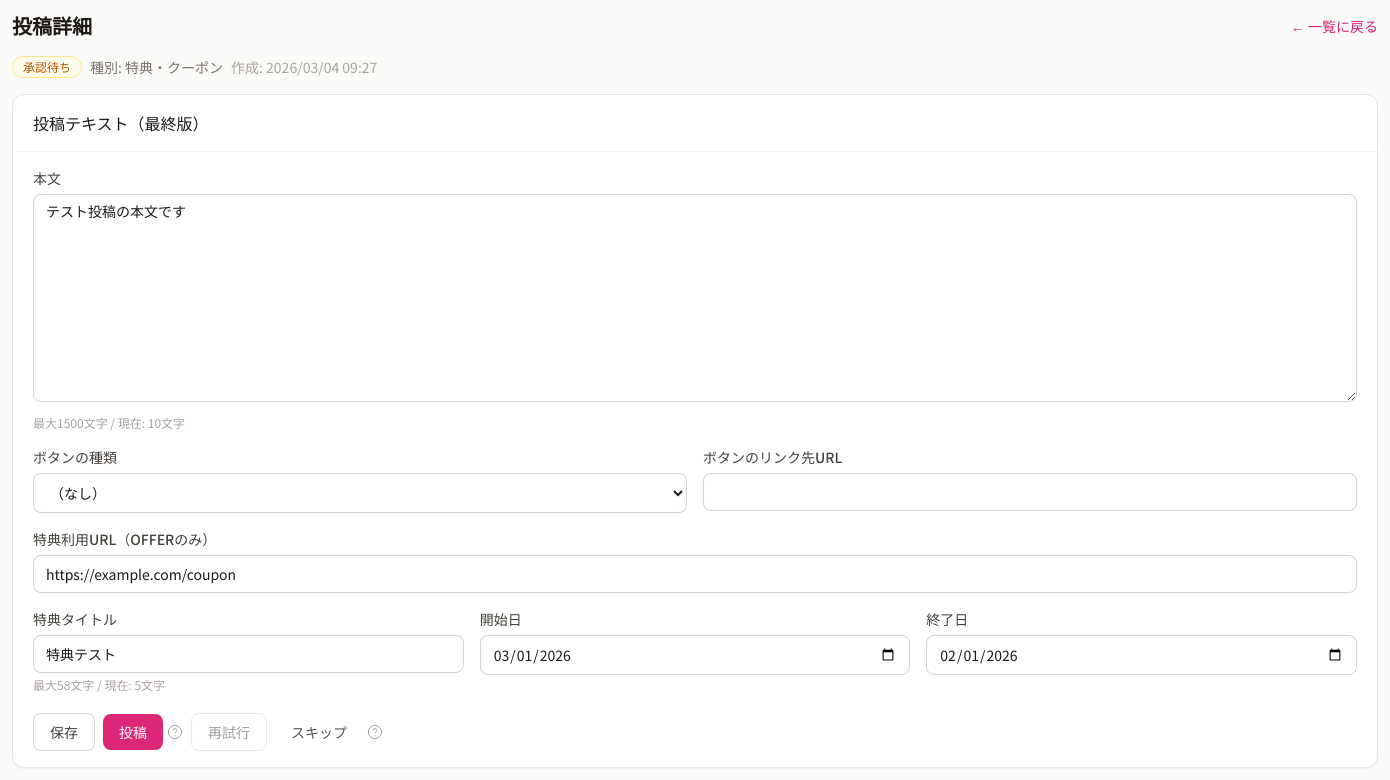
Test case: PostDetailPage › OFFER post type › shows validation error when end date is before start date
Click the button "保存". click: click(64, 732)
box: [33,713,95,751]
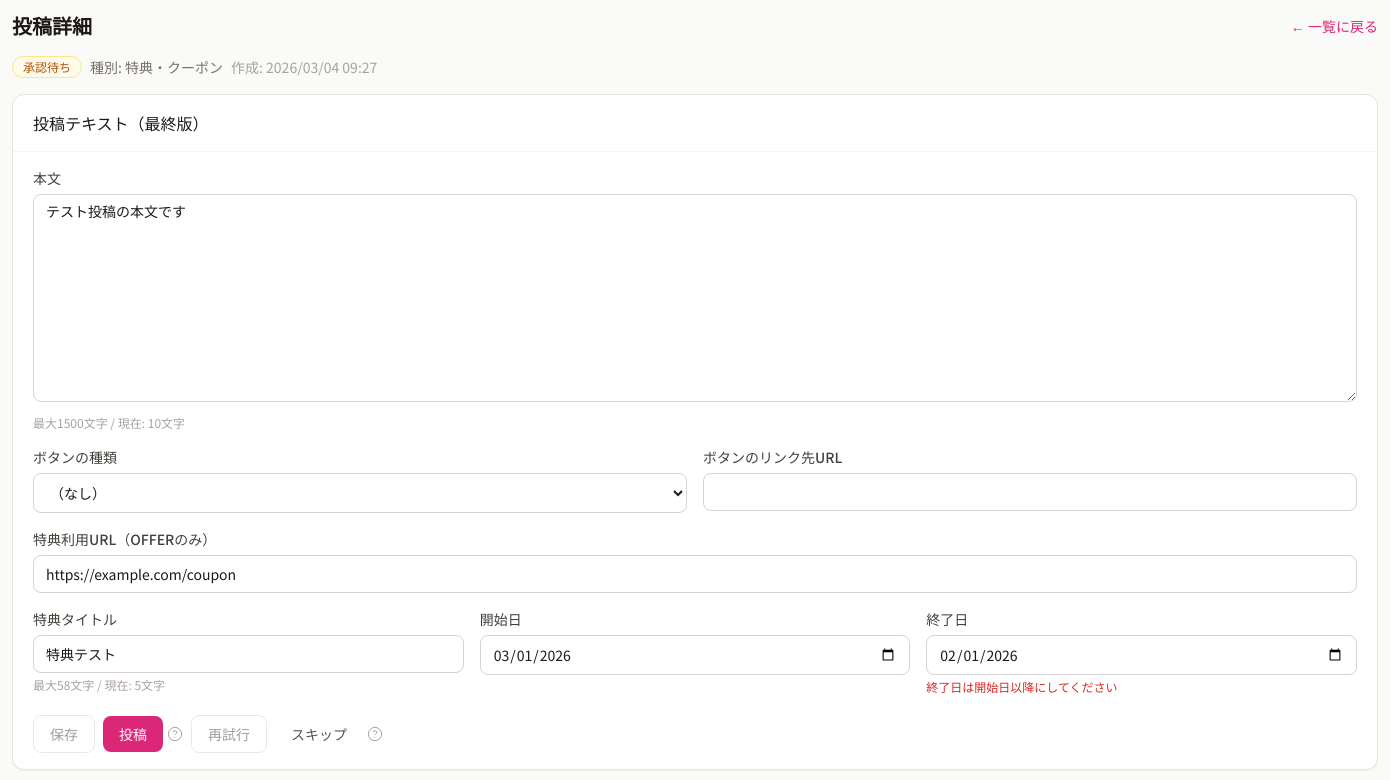
Now the text "終了日は開始日以降にしてください" is shown, box [926,678,1118,695]
